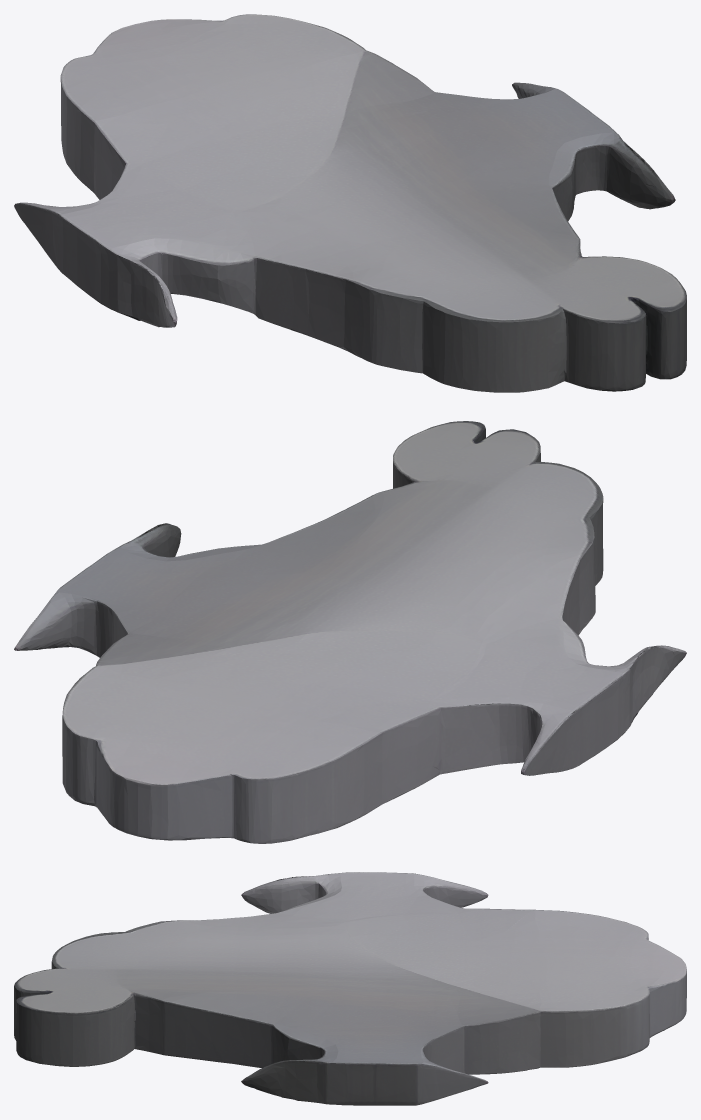
Rendered from reconstructed.glb.
3 renders of one model, top to bottom at view 1: azimuth 30°, elevation 25°; view 2: azimuth 150°, elevation 25°; view 3: azimuth 270°, elevation 25°, orthographic. The views are drawn at different scales.
Parts seen in each view (by area): view 1: world; view 2: world; view 3: world.
Boxes of the visible parts, bbox=[...] form: world: bbox=[14, 14, 686, 392]; world: bbox=[14, 421, 686, 843]; world: bbox=[14, 872, 686, 1105].
Size of the model in its own units: 0.6673 by 0.0929 by 1.
1 material, 1 textured.
